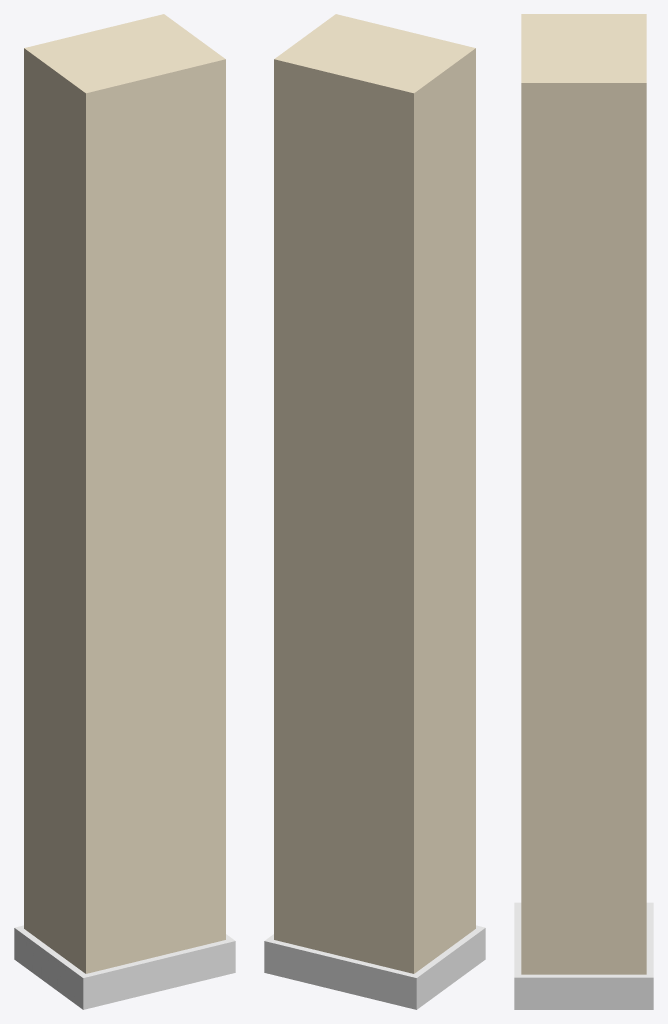
File: Column.FBX
3 views of the same model, side by side, from view 1: azimuth 30°, elevation 25°; view 2: azimuth 150°, elevation 25°; view 3: azimuth 270°, elevation 25° (orthographic).
Visible parts, largest first — view 1: column; view 2: column; view 3: column.
Part boxes in pixels (x1,y1,x2,y2): column: (14, 14, 235, 1009); column: (264, 14, 485, 1009); column: (514, 14, 653, 1009).
Bounding box in the file's own units: 52.88 × 303 × 41.45.
